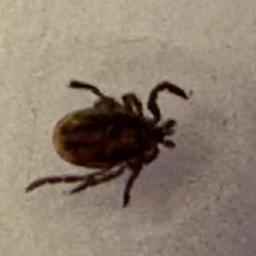Ixodes scapularis: (23, 77, 194, 208)
